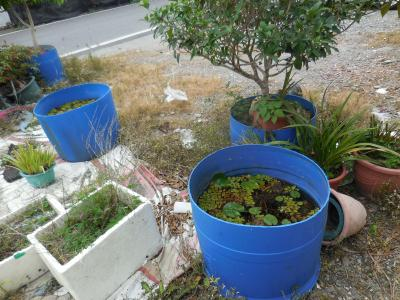bowl: (323, 187, 367, 246)
bucket: (184, 141, 333, 300), (32, 82, 120, 164), (29, 44, 66, 86)
styrofoam: (26, 178, 165, 300), (1, 192, 66, 294)
